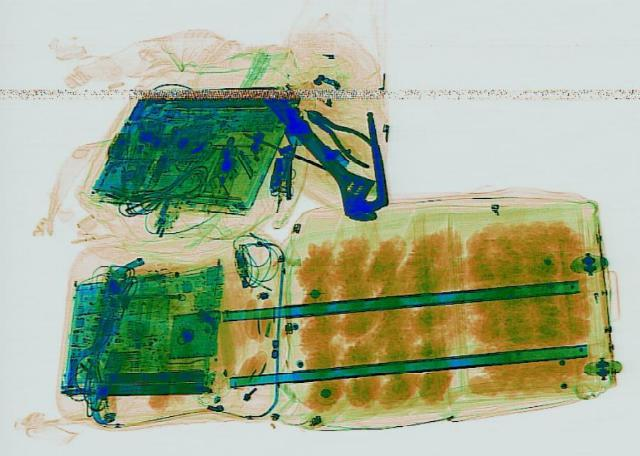Pliers: (290, 99, 390, 170)
Wrench: (244, 81, 400, 226)
